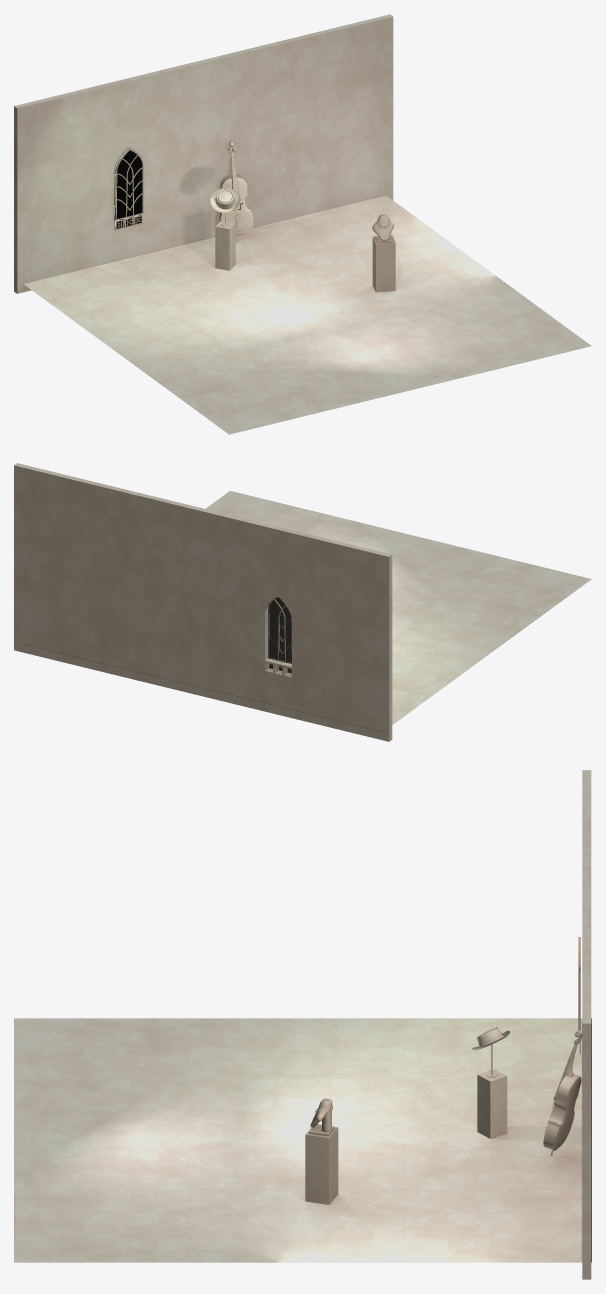
File: menu.glb
The picture shows the model from 3 angles, top to bottom: view 1: azimuth 30°, elevation 25°; view 2: azimuth 150°, elevation 25°; view 3: azimuth 270°, elevation 25°; orthographic projection. The views are drawn at different scales.
Visible parts, largest first — view 1: structure, vitrail, collier, chapeau, contrebasse; view 2: structure, vitrail; view 3: structure, collier, chapeau, contrebasse.
Boxes of the visible parts, x1,y1,x2,y2 form: structure: (14, 14, 591, 434); vitrail: (115, 148, 143, 229); collier: (372, 214, 395, 292); chapeau: (210, 188, 240, 270); contrebasse: (219, 142, 253, 242); structure: (14, 463, 591, 741); vitrail: (268, 597, 291, 673); structure: (14, 770, 591, 1279); collier: (305, 1098, 338, 1204); chapeau: (472, 1027, 509, 1138); contrebasse: (543, 1030, 582, 1155).
Size of the model in its own units: 7.96 by 3.75 by 7.68.
Materials: 5 (5 with a texture image).
